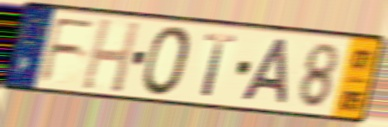8: (297, 41, 341, 110)
A: (237, 36, 290, 107)
F: (37, 16, 99, 85)
H: (79, 16, 143, 96)
O: (141, 24, 194, 99)
T: (200, 31, 240, 100)
